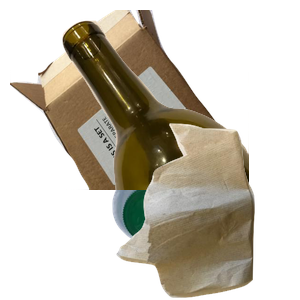cardboard: (10, 10, 227, 190)
glass: (60, 18, 300, 198)
plastic: (110, 164, 300, 300)
trash: (114, 121, 300, 300)
